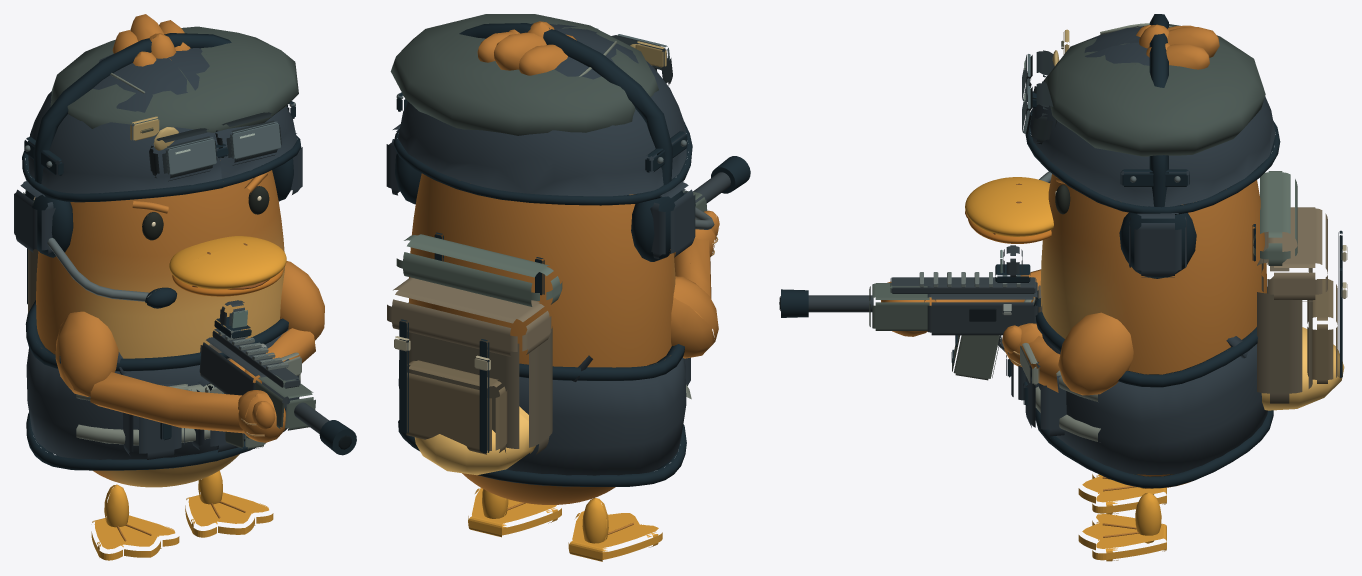
File: duck.glb
3 views of the same model, side by side, from view 1: azimuth 30°, elevation 25°; view 2: azimuth 150°, elevation 25°; view 3: azimuth 270°, elevation 25° (orthographic). The views are drawn at different scales.
Visible parts, largest first — view 1: duck_torso_mesh, duck_helmet_mesh, duck_weapon_mesh, duck_vest_mesh, duck_beret_mesh, duck_headset_mesh, duck_beak_mesh, duck_goggles_mesh, duck_leftArm_mesh, duck_leftFoot_mesh, duck_rightFoot_mesh, duck_rightArm_mesh (+6 smaller); view 2: duck_torso_mesh, duck_pack_mesh, duck_helmet_mesh, duck_vest_mesh, duck_beret_mesh, duck_headset_mesh, duck_weapon_mesh, duck_leftFoot_mesh, duck_tail_mesh, duck_leftArm_mesh, duck_crestSwept_mesh, duck_rightFoot_mesh (+1 smaller); view 3: duck_torso_mesh, duck_vest_mesh, duck_beret_mesh, duck_weapon_mesh, duck_helmet_mesh, duck_pack_mesh, duck_headset_mesh, duck_beak_mesh, duck_rightArm_mesh, duck_rightFoot_mesh, duck_goggles_mesh, duck_crestSwept_mesh (+3 smaller).
Part boxes in pixels (x1,y1,x2,y2): duck_torso_mesh: [36, 170, 284, 487]; duck_helmet_mesh: [22, 48, 301, 202]; duck_weapon_mesh: [90, 300, 356, 455]; duck_vest_mesh: [25, 300, 301, 470]; duck_beret_mesh: [50, 26, 298, 150]; duck_headset_mesh: [14, 33, 302, 308]; duck_beak_mesh: [169, 236, 286, 296]; duck_goggles_mesh: [149, 112, 281, 181]; duck_leftArm_mesh: [55, 311, 118, 396]; duck_leftFoot_mesh: [91, 484, 179, 560]; duck_rightFoot_mesh: [185, 470, 273, 537]; duck_rightArm_mesh: [280, 261, 324, 340]; duck_torso_mesh: [409, 173, 675, 504]; duck_pack_mesh: [387, 232, 562, 454]; duck_helmet_mesh: [393, 23, 692, 205]; duck_vest_mesh: [398, 302, 690, 486]; duck_beret_mesh: [390, 14, 658, 135]; duck_headset_mesh: [386, 23, 714, 261]; duck_weapon_mesh: [673, 156, 750, 318]; duck_leftFoot_mesh: [568, 498, 662, 561]; duck_tail_mesh: [414, 406, 535, 475]; duck_leftArm_mesh: [671, 276, 718, 358]; duck_crestSwept_mesh: [477, 32, 567, 75]; duck_rightFoot_mesh: [468, 488, 561, 537]; duck_torso_mesh: [1040, 174, 1266, 488]; duck_vest_mesh: [1006, 287, 1273, 488]; duck_beret_mesh: [1045, 24, 1265, 156]; duck_weapon_mesh: [779, 245, 1059, 392]; duck_helmet_mesh: [1025, 23, 1280, 214]; duck_pack_mesh: [1252, 171, 1347, 403]; duck_headset_mesh: [1039, 14, 1196, 278]; duck_beak_mesh: [965, 177, 1053, 243]; duck_rightArm_mesh: [1058, 312, 1133, 395]; duck_rightFoot_mesh: [1078, 492, 1166, 561]; duck_goggles_mesh: [1022, 50, 1057, 144]; duck_crestSwept_mesh: [1166, 25, 1219, 69].
Size of the model in its own units: 1.15 by 1.98 by 2.06.
